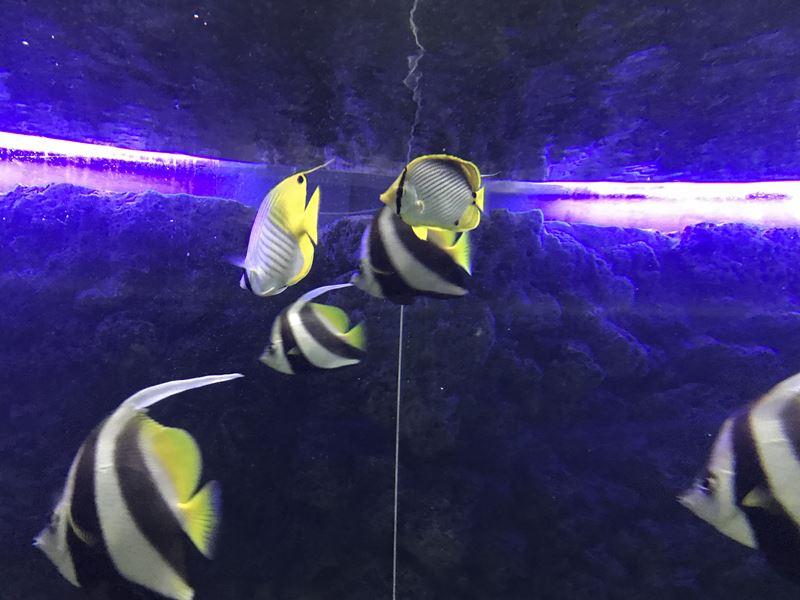Black-backed butterflyfish: (372, 147, 509, 251)
